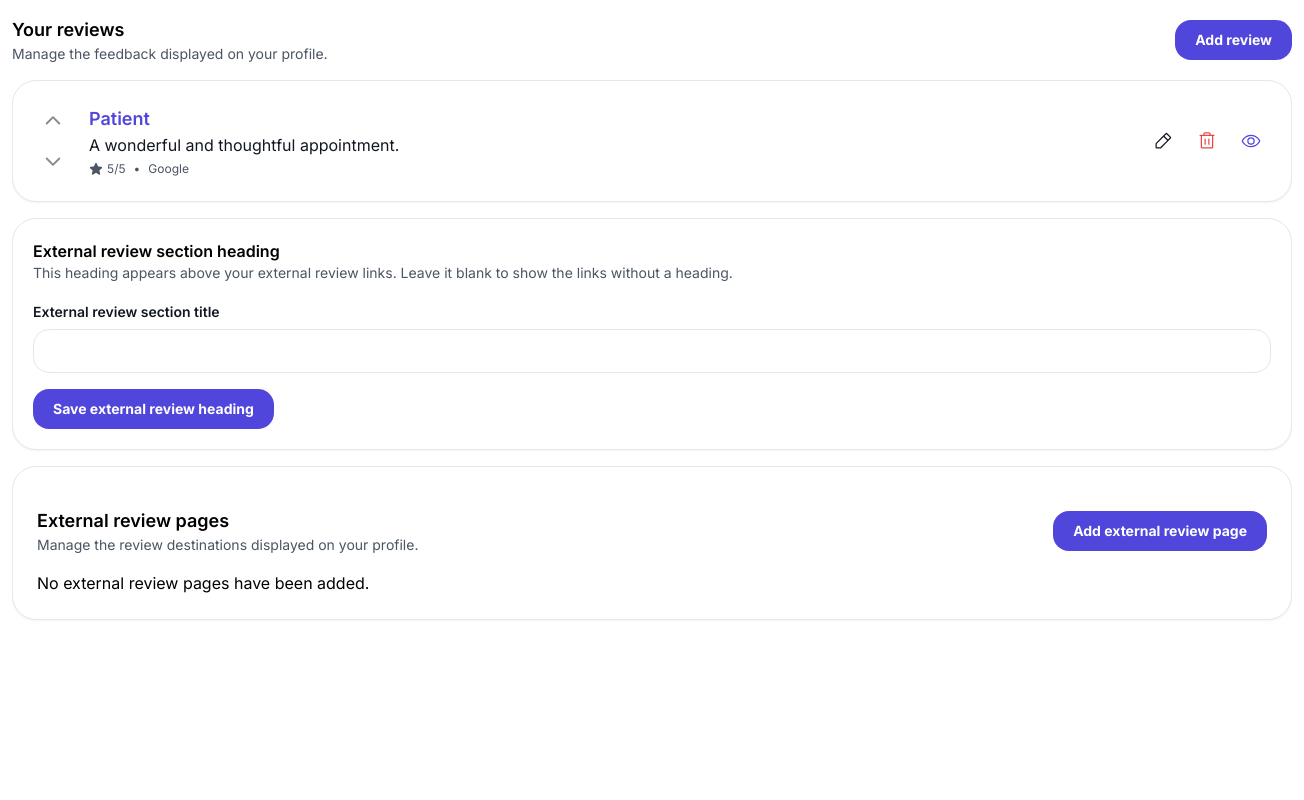
Test: ReviewManager › keeps a rejected toggle actionable and does not reload the preview
The width and height of the screenshot is (1304, 800).
Click the button named "Hide Patient".
click(1251, 141)  # box [1231,121,1271,161]
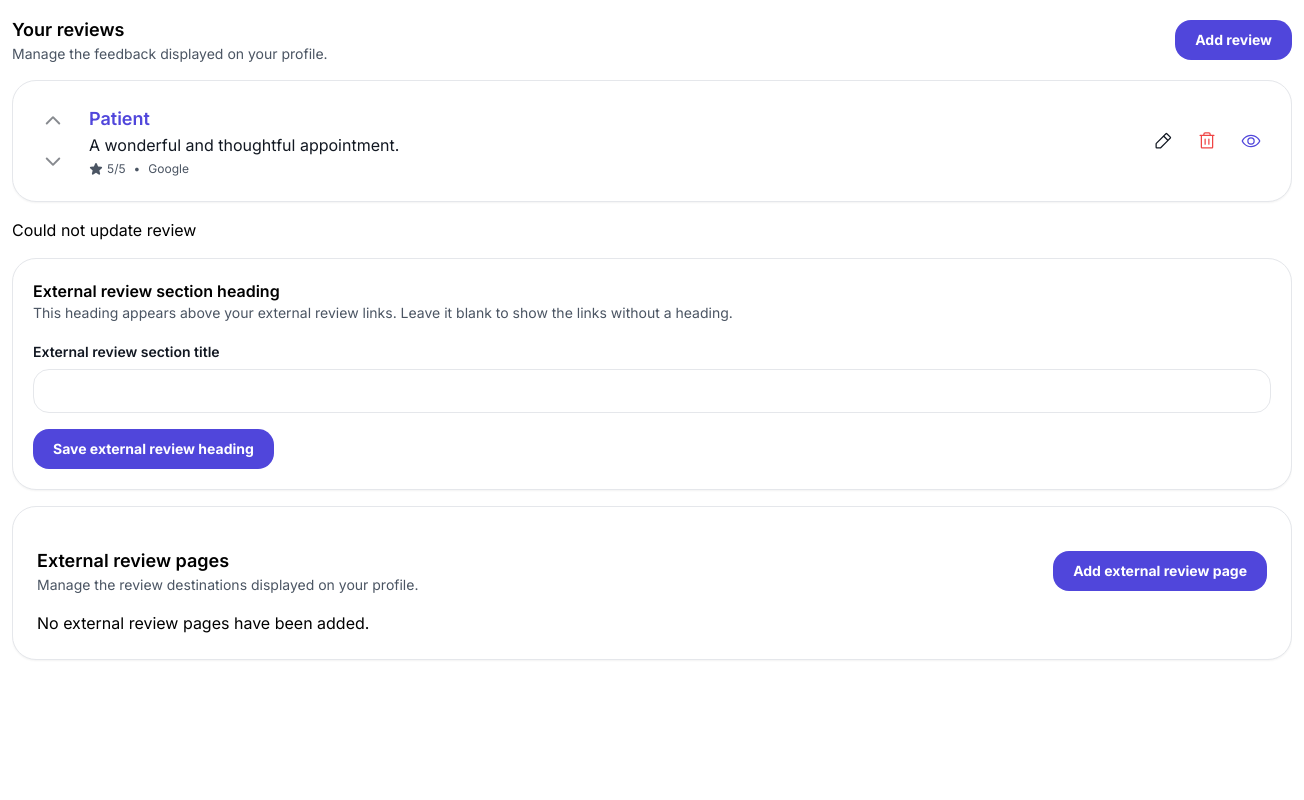
Result: the message reads "Could not update review" at [12,220,196,240]
